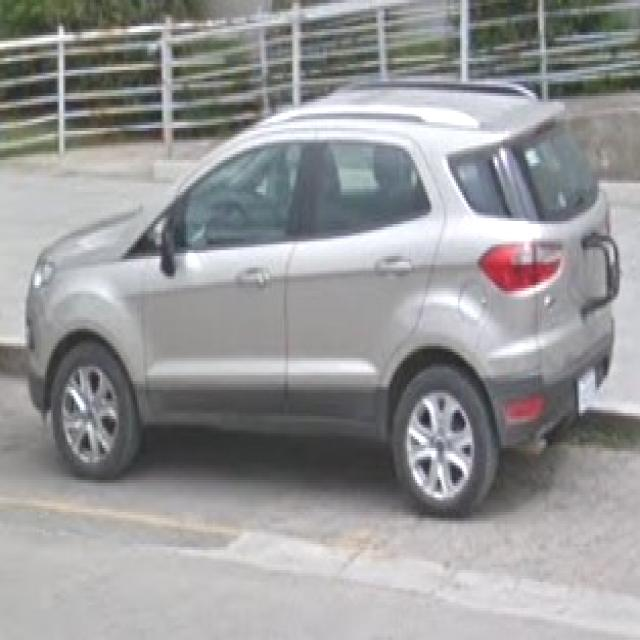car: (27, 76, 621, 513)
